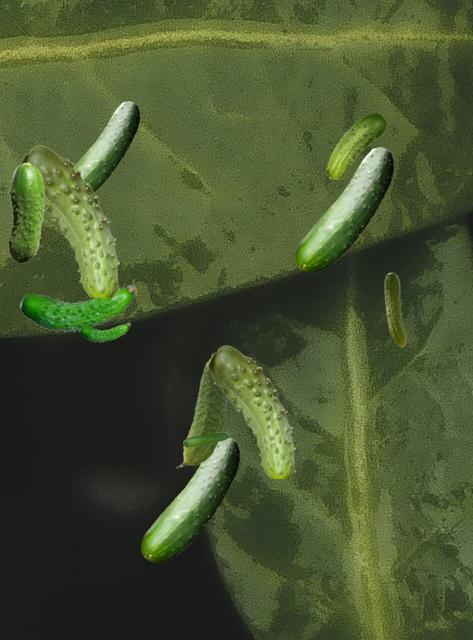cucumber: (20, 145, 119, 296), (141, 437, 238, 561), (295, 147, 392, 271), (208, 345, 295, 477), (19, 279, 135, 331), (75, 101, 138, 192), (176, 355, 227, 467), (326, 113, 385, 178), (8, 162, 44, 262), (384, 272, 405, 346), (79, 320, 129, 341), (183, 432, 228, 446)
